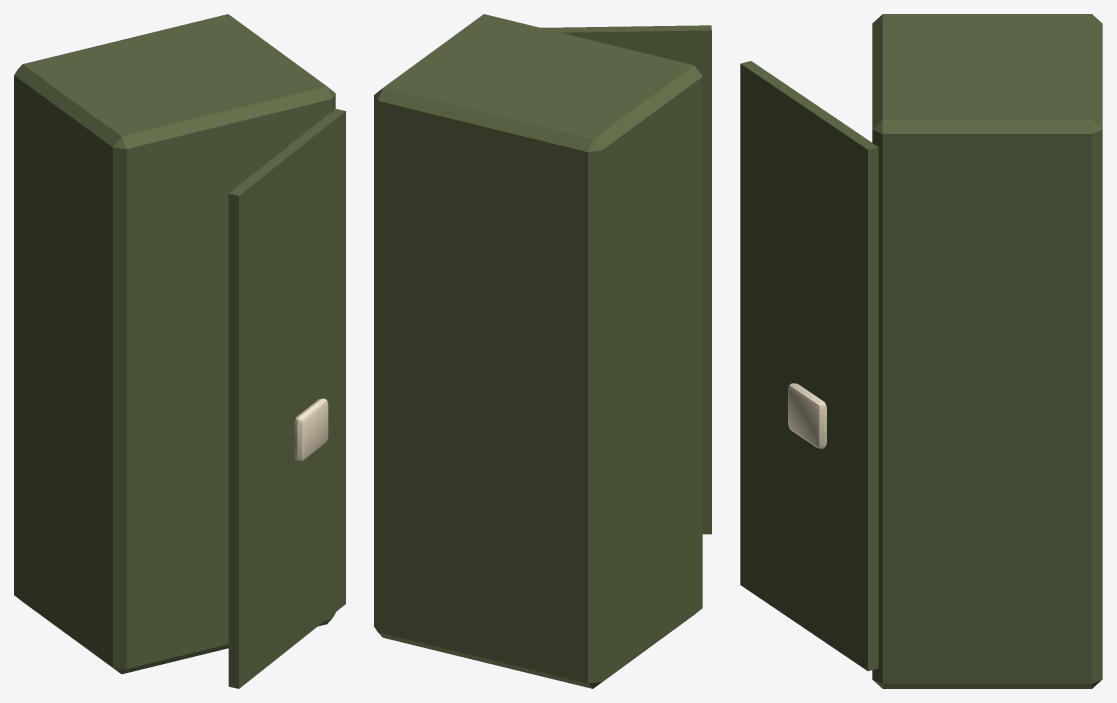
Rendered from Prop_Locker.fbx.
3 views of the same model, side by side, from view 1: azimuth 30°, elevation 25°; view 2: azimuth 150°, elevation 25°; view 3: azimuth 270°, elevation 25° (orthographic). The views are drawn at different scales.
Visible parts, largest first — view 1: Locker, Door; view 2: Locker, Door; view 3: Locker, Door.
Boxes of the visible parts, x1,y1,x2,y2 form: Locker: [14, 14, 335, 674]; Door: [228, 108, 345, 688]; Locker: [374, 14, 702, 688]; Door: [541, 25, 711, 534]; Locker: [872, 14, 1102, 688]; Door: [740, 61, 878, 671].
Size of the model in its own units: 2.64 by 6 by 3.46.
